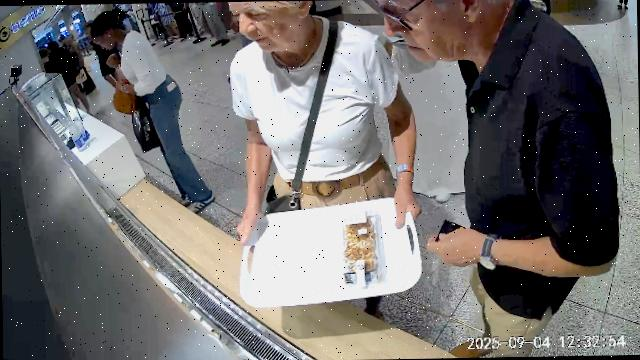sushi-box: (343, 210, 386, 288)
